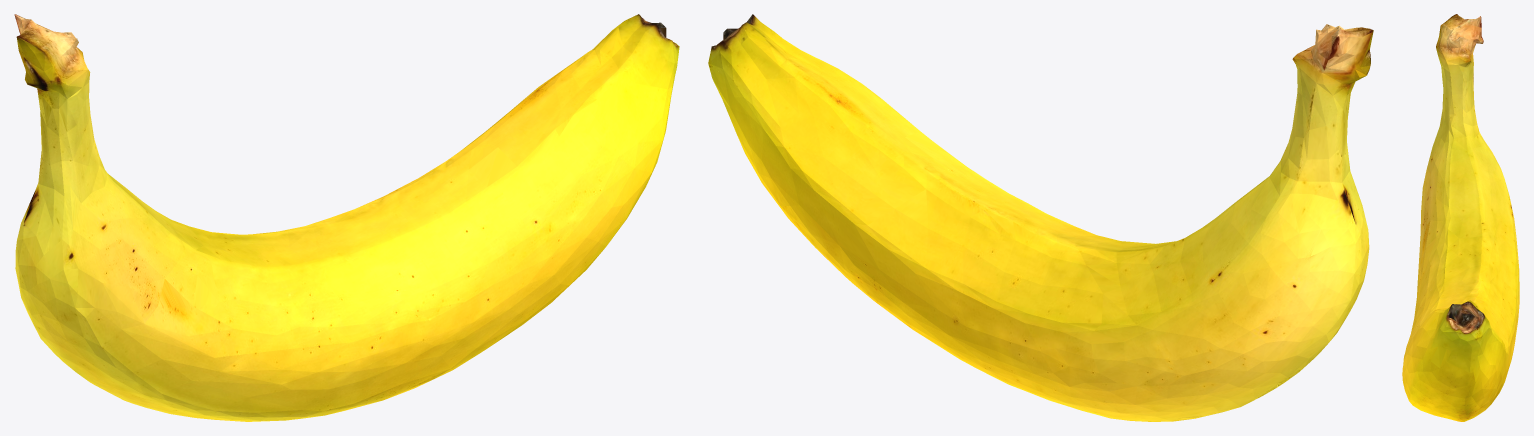
File: banana.glb
3 renders of one model, left to right at view 1: azimuth 30°, elevation 25°; view 2: azimuth 150°, elevation 25°; view 3: azimuth 270°, elevation 25°, orthographic. The views are drawn at different scales.
Parts seen in each view (by area): view 1: banana; view 2: banana; view 3: banana.
Boxes of the visible parts, left/top/right/bottom form: banana: left=14, top=14, right=679, bottom=421; banana: left=708, top=14, right=1373, bottom=421; banana: left=1402, top=14, right=1519, bottom=421.
Size of the model in its own units: 6.79 by 4.44 by 1.62.
1 material, 1 textured.
